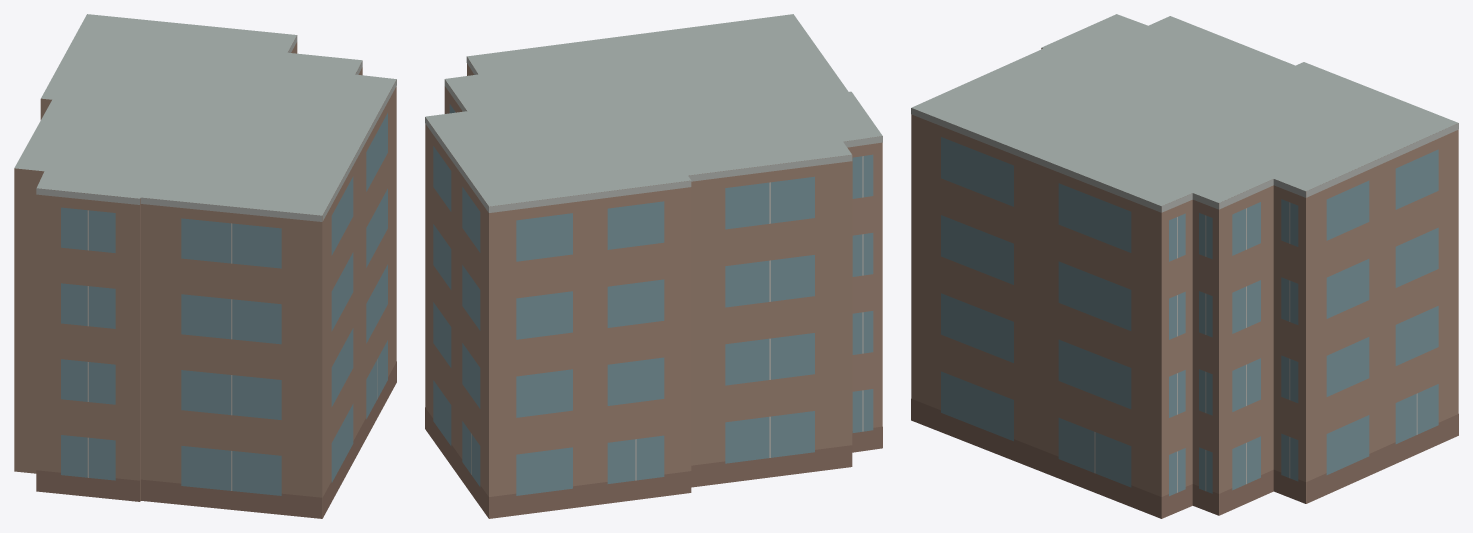
The model's file is survey-upis-32457458.glb.
3 renders of one model, left to right at view 1: azimuth 30°, elevation 25°; view 2: azimuth 150°, elevation 25°; view 3: azimuth 270°, elevation 25°, orthographic. The views are drawn at different scales.
Parts seen in each view (by area): view 1: survey-upis-32457458.tmp; view 2: survey-upis-32457458.tmp; view 3: survey-upis-32457458.tmp.
Boxes of the visible parts, bbox=[...] form: survey-upis-32457458.tmp: bbox=[14, 14, 396, 518]; survey-upis-32457458.tmp: bbox=[425, 14, 882, 518]; survey-upis-32457458.tmp: bbox=[911, 14, 1458, 518].
Size of the model in its own units: 15.37 by 11.65 by 18.5.
